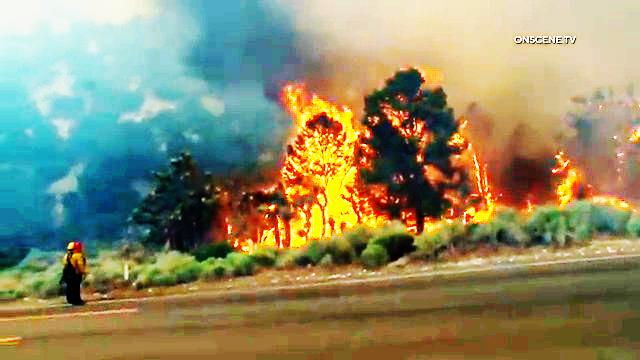fire: (274, 88, 357, 223)
